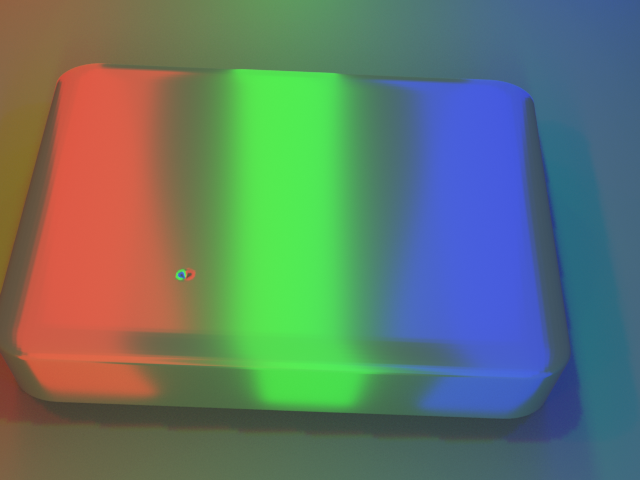dent: (151, 260, 191, 293)
